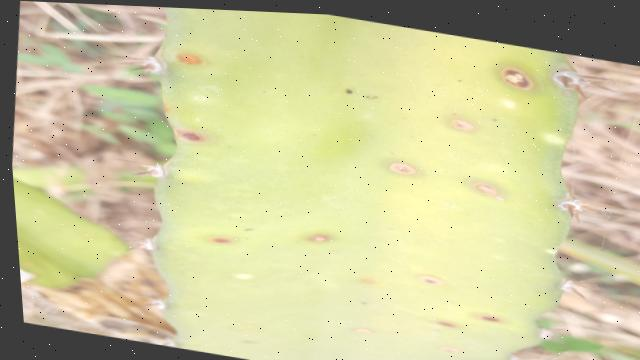stemcanker: (492, 61, 538, 101), (167, 121, 211, 152), (376, 154, 425, 181), (201, 229, 248, 253), (471, 306, 514, 330), (299, 224, 344, 246), (170, 47, 209, 71), (466, 179, 507, 201), (408, 269, 448, 291), (444, 115, 479, 138)
